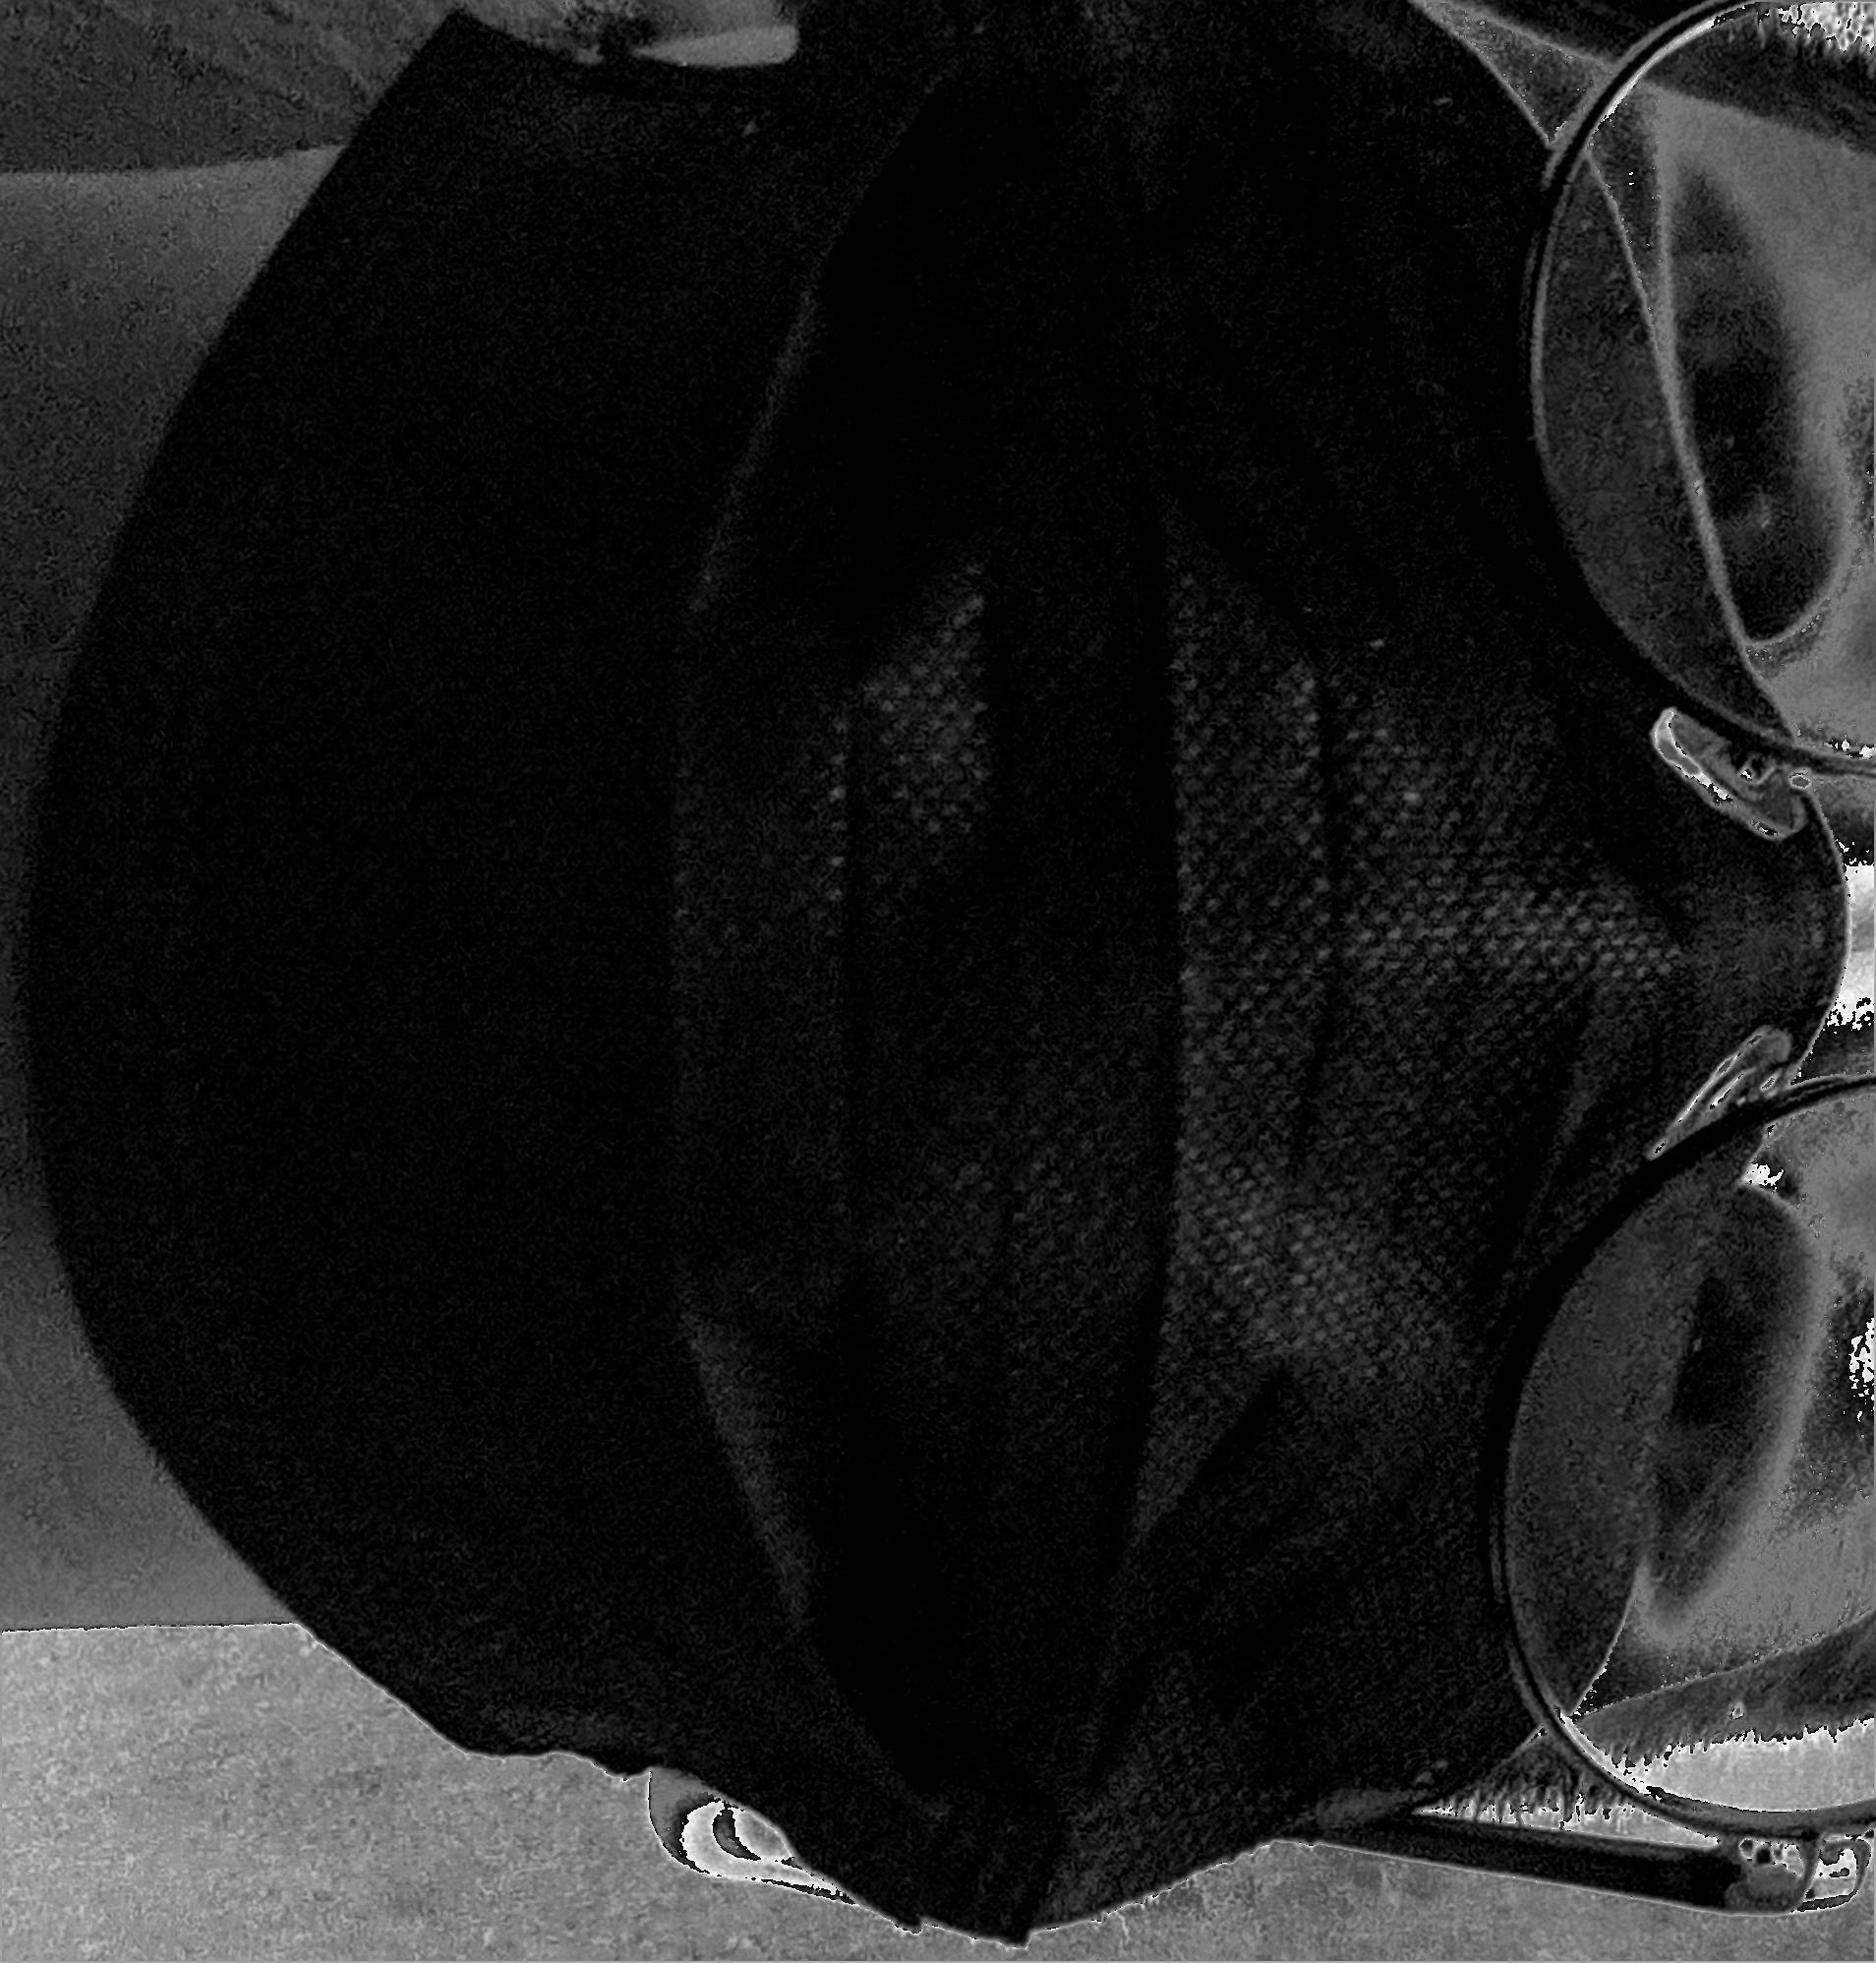Low GSM: (494, 200, 1372, 1598)
